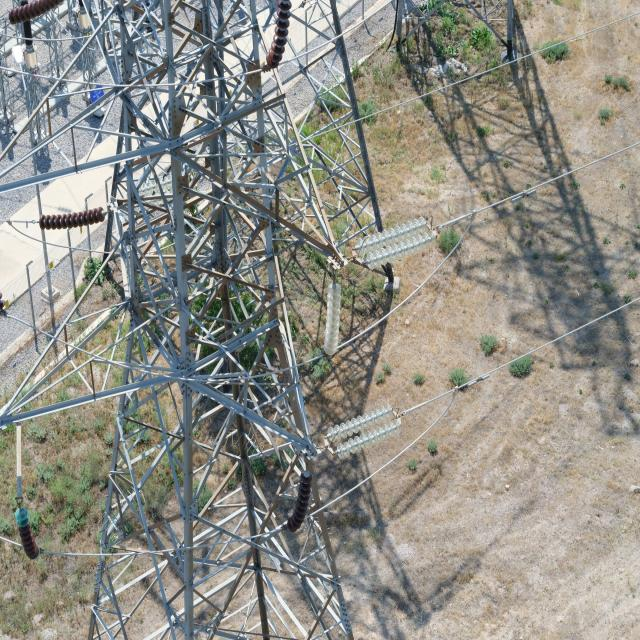direk: (0, 0, 361, 640)
